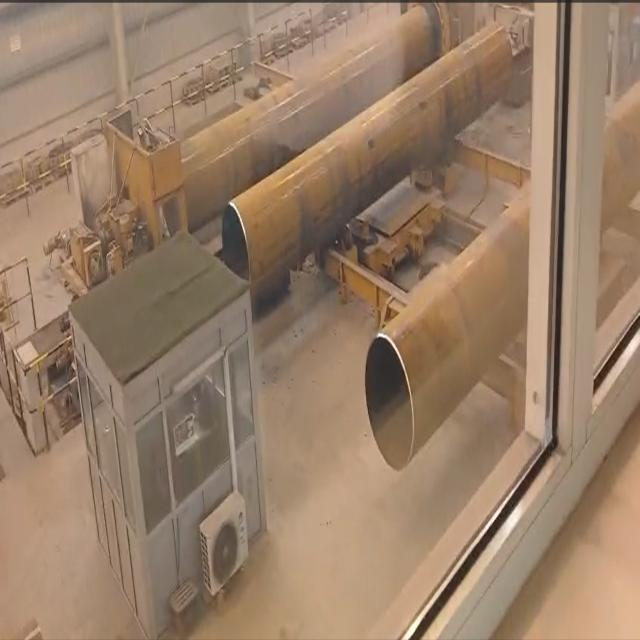warningzone: (323, 137, 531, 303)
